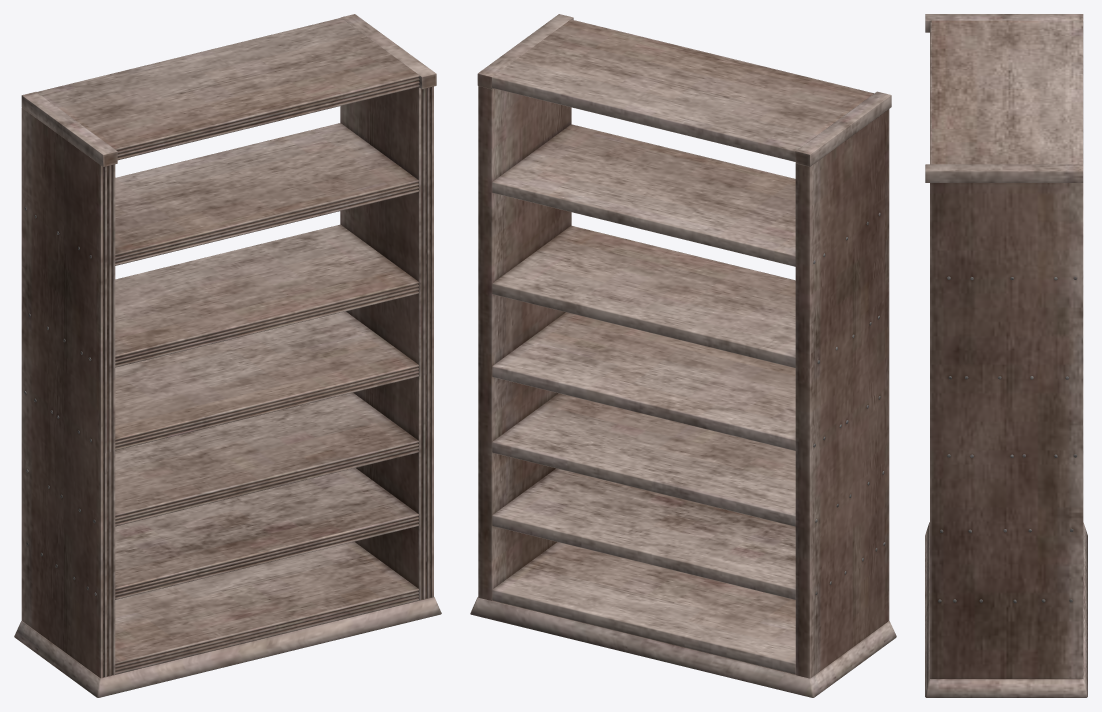
The model's file is wooden_bookshelf_worn.glb.
The picture shows the model from 3 angles, left to right: view 1: azimuth 30°, elevation 25°; view 2: azimuth 150°, elevation 25°; view 3: azimuth 270°, elevation 25°; orthographic projection. The views are drawn at different scales.
Visible parts, largest first — view 1: wooden_bookshelf_worn; view 2: wooden_bookshelf_worn; view 3: wooden_bookshelf_worn.
Part boxes in pixels (x1,y1,x2,y2): wooden_bookshelf_worn: (14,14,441,697); wooden_bookshelf_worn: (470,14,896,697); wooden_bookshelf_worn: (925,14,1087,697).
Bounding box in the file's own units: 1.37 × 2.06 × 0.5813.
1 material, 1 textured.
